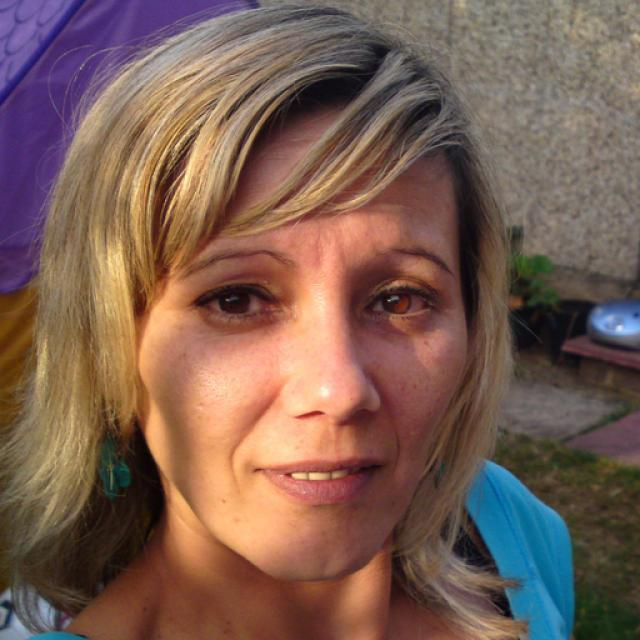happy: (132, 120, 470, 581)
